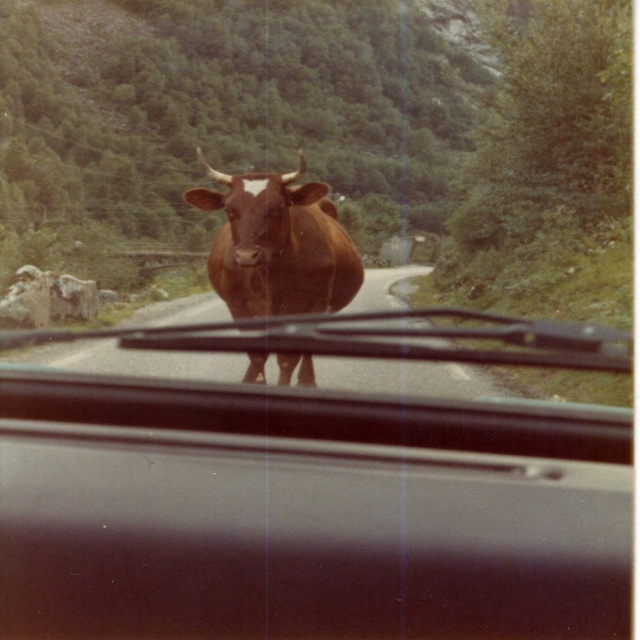Bull: (182, 151, 367, 392)
